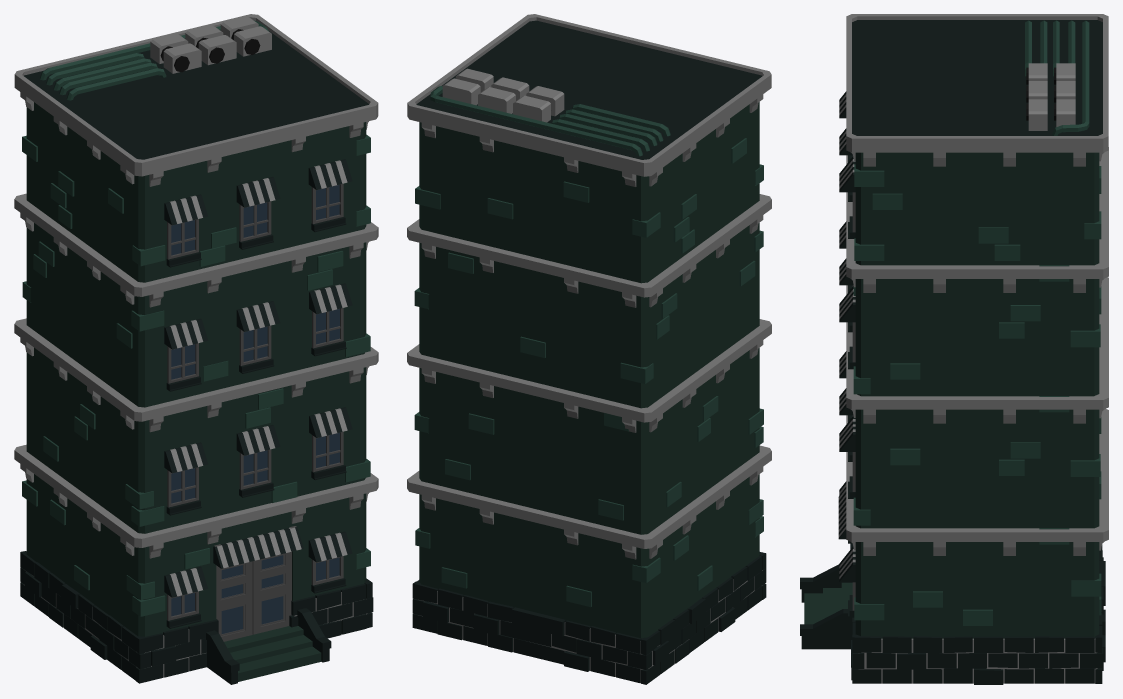
Rendered from 4Story_Mat.obj.
3 renders of one model, left to right at view 1: azimuth 30°, elevation 25°; view 2: azimuth 150°, elevation 25°; view 3: azimuth 270°, elevation 25°, orthographic. The views are drawn at different scales.
Parts seen in each view (by area): view 1: Cube.024; view 2: Cube.024; view 3: Cube.024.
Part boxes in pixels (x1,y1,x2,y2): Cube.024: [14, 14, 378, 684]; Cube.024: [407, 14, 771, 684]; Cube.024: [800, 14, 1108, 684].
Size of the model in its own units: 2.42 by 5.09 by 2.53.
